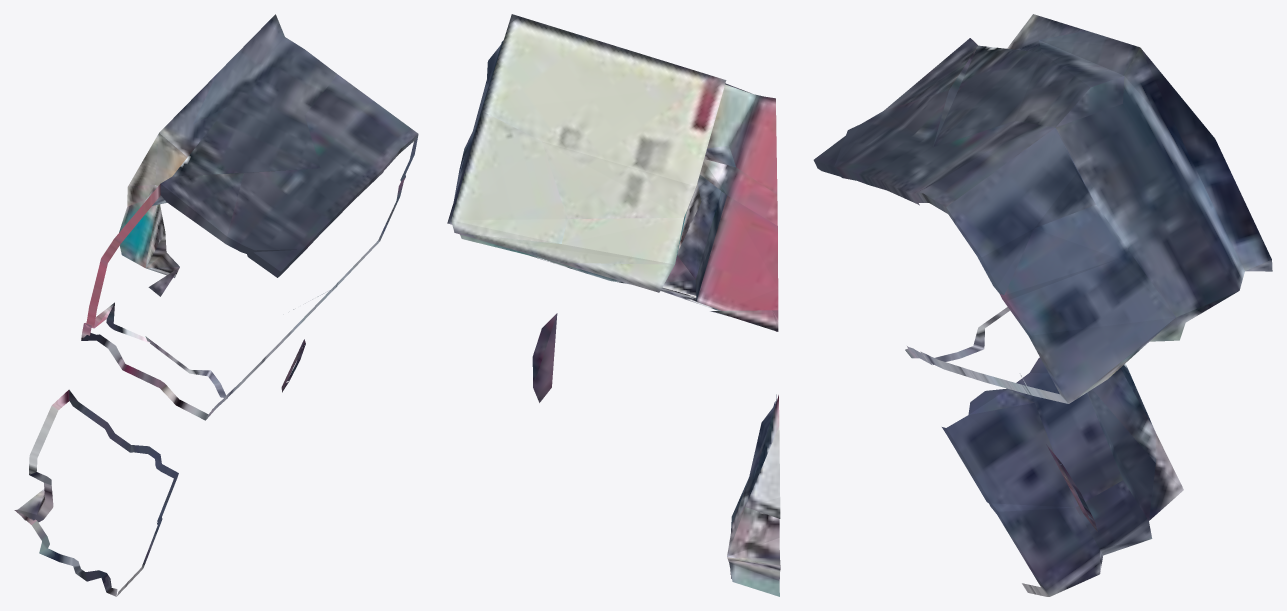
The picture shows the model from 3 angles, left to right: view 1: azimuth 30°, elevation 25°; view 2: azimuth 150°, elevation 25°; view 3: azimuth 270°, elevation 25°; orthographic projection. The views are drawn at different scales.
Bounding box in the file's own units: 20.98 × 29.89 × 18.36.
Materials: 1 (1 with a texture image).
